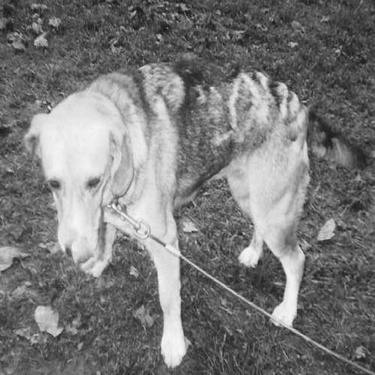dog: (25, 48, 368, 371)
